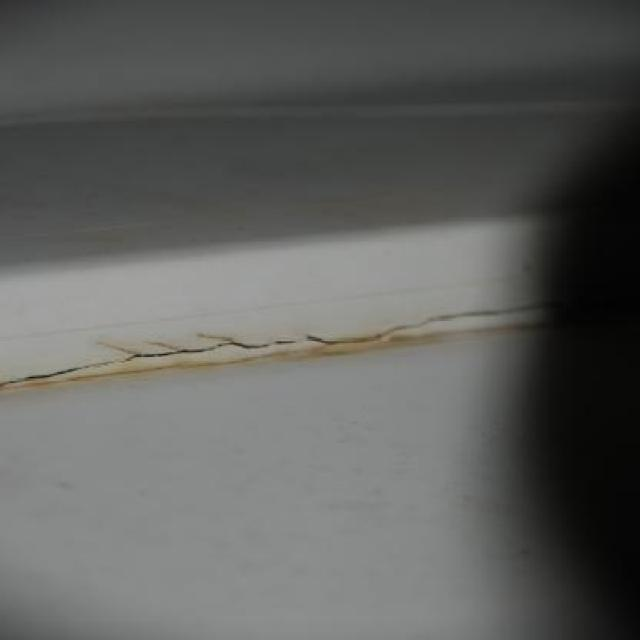crack: (122, 336, 307, 365), (400, 306, 539, 329), (2, 360, 120, 386), (315, 325, 397, 347)
